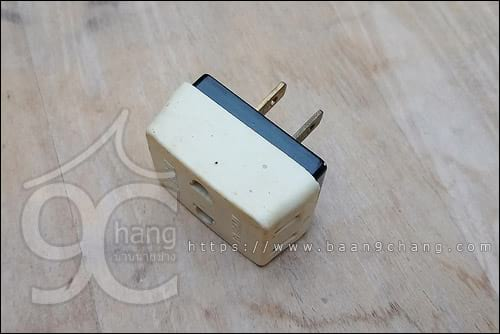Three_eye_plug: (139, 65, 341, 268)
